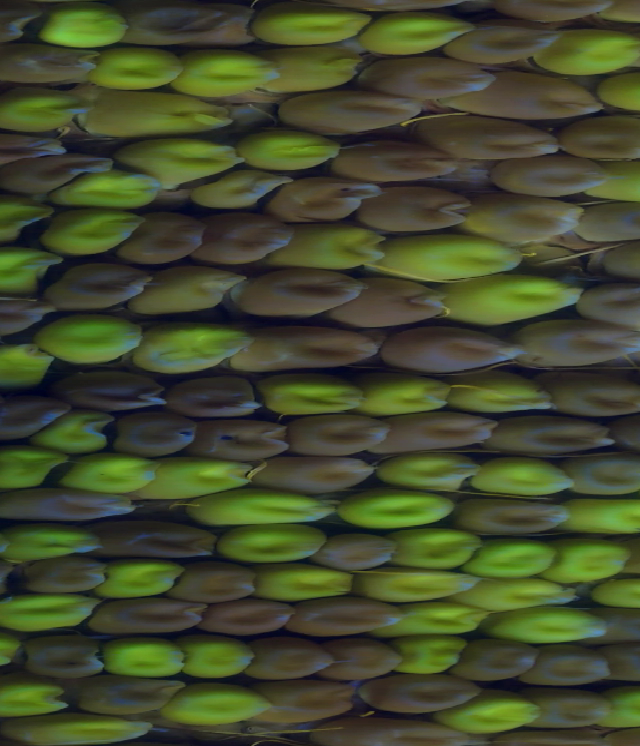fluorescent: (83, 89, 224, 144), (436, 270, 587, 321), (120, 133, 246, 181), (384, 236, 516, 278), (132, 326, 242, 376), (356, 9, 476, 54), (249, 1, 368, 46), (536, 29, 638, 81), (180, 52, 283, 102), (224, 132, 341, 176), (156, 455, 257, 503), (0, 77, 82, 136), (183, 488, 331, 520), (475, 454, 579, 498), (347, 488, 458, 529), (89, 48, 182, 96), (38, 317, 134, 363), (269, 50, 357, 98), (262, 380, 365, 420), (278, 225, 376, 267), (69, 455, 156, 502), (0, 591, 97, 633), (446, 373, 553, 411), (106, 632, 182, 685), (0, 718, 140, 746), (53, 203, 156, 241), (180, 636, 258, 685), (246, 567, 360, 600), (41, 7, 124, 52), (95, 562, 178, 607), (491, 613, 612, 643), (471, 578, 584, 610), (362, 376, 449, 417), (394, 637, 476, 680), (8, 531, 98, 569), (442, 695, 531, 733), (360, 570, 473, 599), (213, 526, 325, 555), (171, 691, 268, 724), (0, 439, 60, 491), (398, 528, 473, 567), (0, 246, 53, 300), (397, 599, 484, 631), (478, 543, 556, 578), (62, 172, 157, 200), (389, 455, 471, 487), (54, 410, 110, 454), (558, 541, 630, 574), (0, 684, 69, 713), (0, 203, 50, 243), (579, 499, 640, 531), (0, 346, 49, 383), (602, 574, 640, 611), (605, 161, 640, 200)
nonfluorescent: (471, 69, 596, 124), (380, 324, 518, 373), (278, 87, 422, 131), (432, 113, 558, 161), (126, 3, 259, 48), (469, 194, 588, 241), (351, 276, 455, 329), (240, 328, 371, 370), (371, 55, 484, 103), (515, 326, 630, 373), (460, 494, 575, 539), (337, 137, 455, 180), (243, 272, 355, 317), (367, 181, 464, 231), (493, 155, 611, 196), (74, 677, 180, 720), (103, 520, 222, 558), (69, 366, 173, 409), (0, 489, 144, 520), (499, 417, 619, 454), (199, 214, 281, 265), (48, 265, 141, 309), (391, 415, 501, 452), (119, 218, 208, 263), (323, 718, 460, 746), (551, 372, 640, 415), (4, 154, 106, 191), (527, 641, 611, 685), (258, 459, 373, 491), (0, 51, 96, 89), (201, 420, 289, 461), (555, 111, 640, 152), (293, 603, 401, 635), (281, 177, 367, 217), (200, 600, 292, 637), (564, 451, 640, 495), (178, 378, 266, 415), (355, 678, 480, 704), (293, 415, 385, 450), (460, 26, 549, 62), (92, 603, 201, 631), (466, 633, 533, 677), (269, 685, 358, 718), (319, 532, 392, 572), (17, 558, 110, 588), (255, 640, 330, 677), (114, 418, 191, 454), (336, 637, 404, 677), (0, 396, 63, 439), (588, 283, 640, 335), (180, 567, 255, 598), (27, 637, 101, 667), (534, 696, 607, 726), (0, 128, 58, 165), (0, 291, 44, 331), (0, 9, 43, 48), (591, 202, 640, 232), (606, 648, 640, 685), (604, 237, 640, 270), (607, 617, 640, 641)
